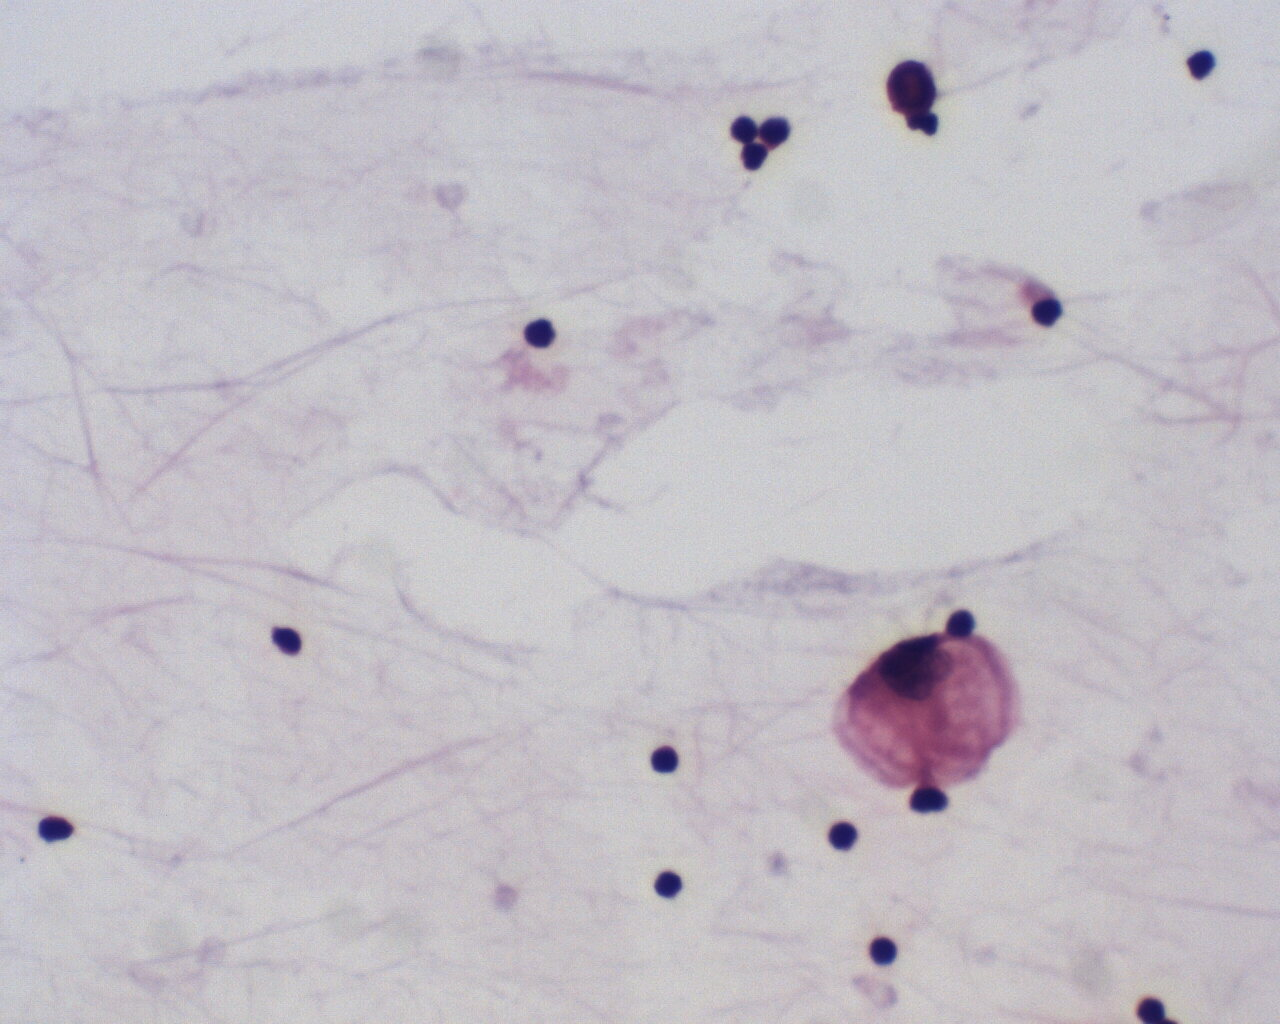histo: (837, 629, 1030, 793)
lymph: (521, 310, 561, 355), (644, 740, 685, 779), (827, 815, 865, 858), (1026, 292, 1070, 329), (269, 623, 305, 658), (869, 931, 904, 967), (652, 866, 688, 900), (726, 112, 760, 145)
